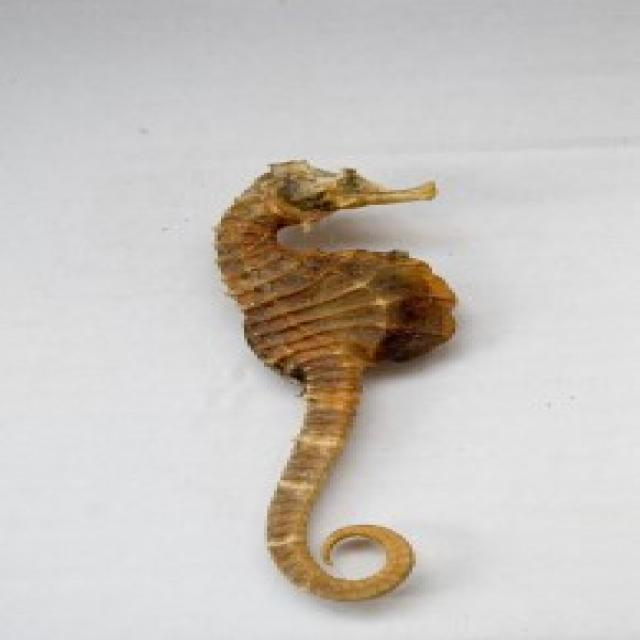Seahorse: (205, 148, 489, 606)
